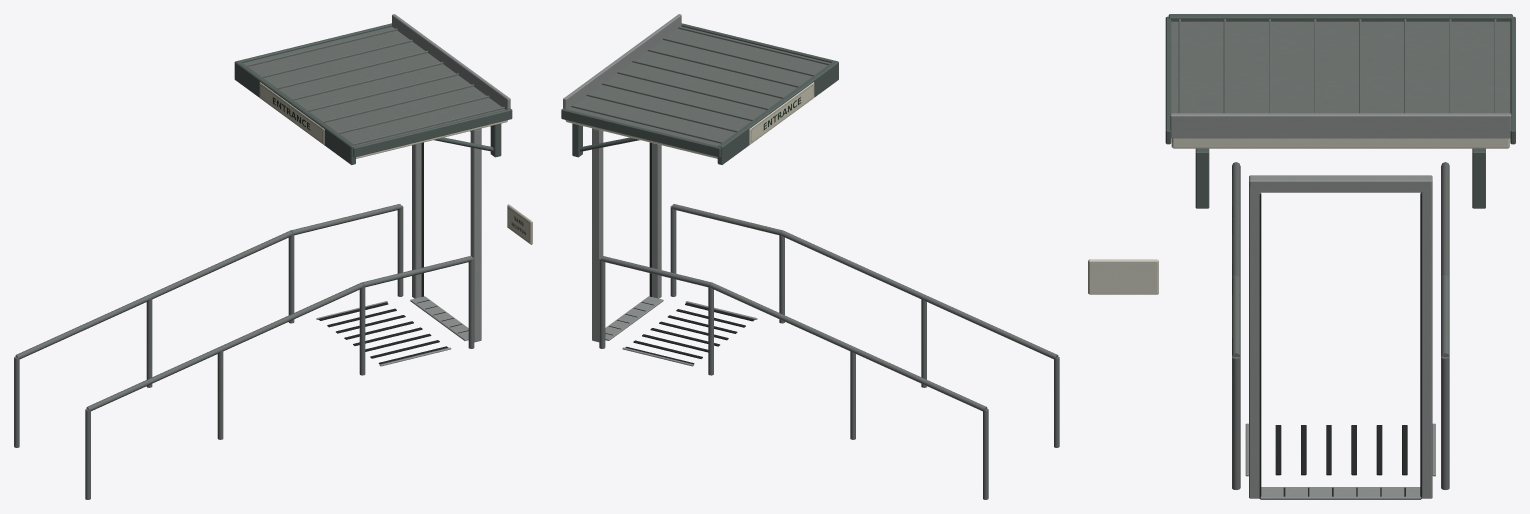
File: SM_Arrival_Entrance_LOD2.fbx
3 views of the same model, side by side, from view 1: azimuth 30°, elevation 25°; view 2: azimuth 150°, elevation 25°; view 3: azimuth 270°, elevation 25° (orthographic). The views are drawn at different scales.
Parts seen in each view (by area): view 1: SM_Arrival_Entrance_LOD2; view 2: SM_Arrival_Entrance_LOD2; view 3: SM_Arrival_Entrance_LOD2.
Boxes of the visible parts, x1,y1,x2,y2 form: SM_Arrival_Entrance_LOD2: (14, 14, 532, 499); SM_Arrival_Entrance_LOD2: (561, 14, 1059, 499); SM_Arrival_Entrance_LOD2: (1088, 14, 1515, 499).
Size of the model in its own units: 4.26 by 2.66 by 3.22.
